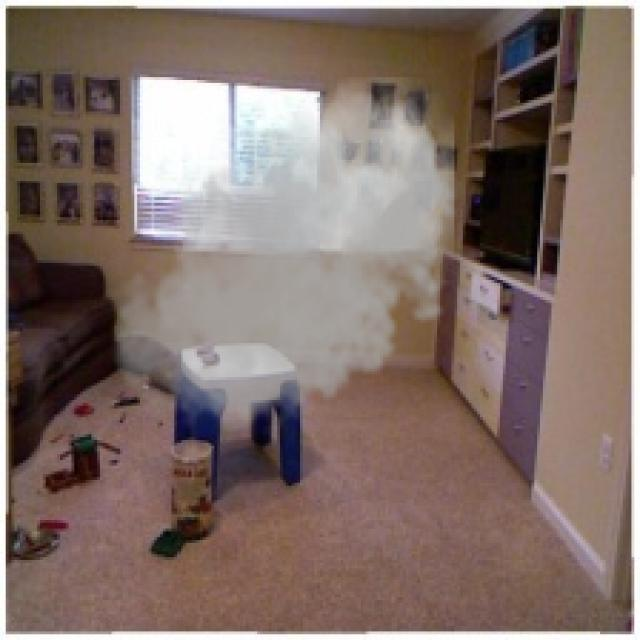Smoke: (106, 77, 468, 446)
